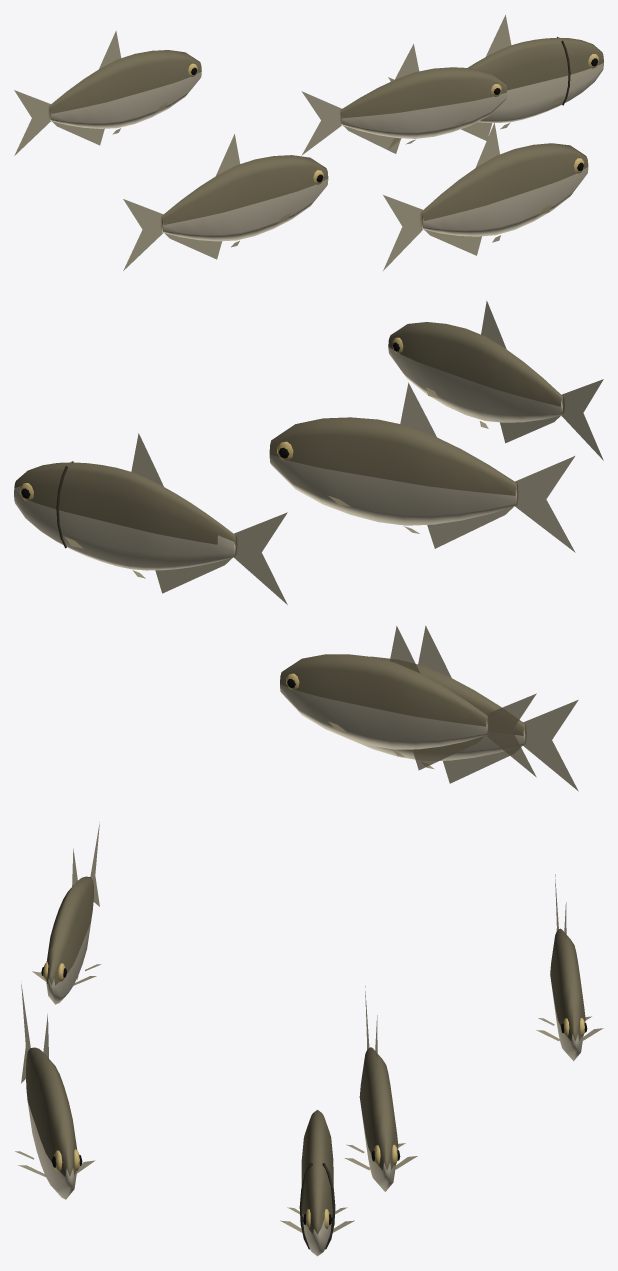
File: lake-leshch-shallows-0.glb
3 views of the same model, one above another, from view 1: azimuth 30°, elevation 25°; view 2: azimuth 150°, elevation 25°; view 3: azimuth 270°, elevation 25° (orthographic). The views are drawn at different scales.
Visible parts, largest first — view 1: lake-leshch-shallows-0; view 2: lake-leshch-shallows-0; view 3: lake-leshch-shallows-0.
Boxes of the visible parts, x1,y1,x2,y2 form: lake-leshch-shallows-0: [14, 15, 603, 270]; lake-leshch-shallows-0: [14, 300, 603, 791]; lake-leshch-shallows-0: [15, 822, 603, 1256].
Size of the model in its own units: 0.9673 by 0.5151 by 0.74.
